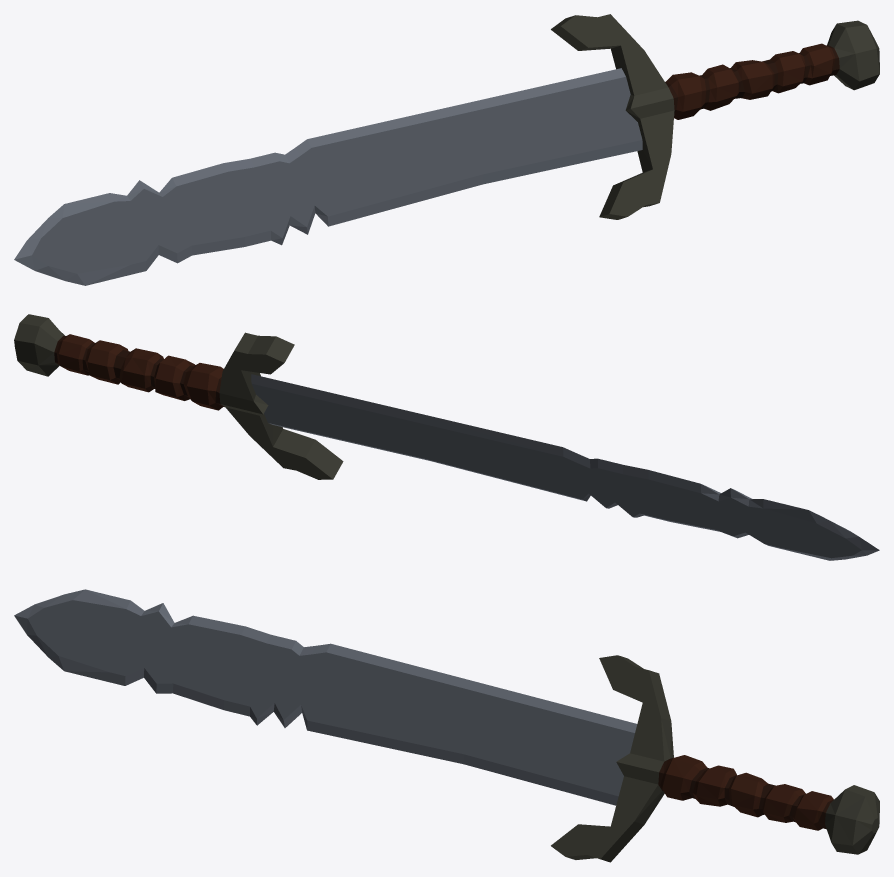
The model's file is Sword_Cylinder.obj.
The picture shows the model from 3 angles, top to bottom: view 1: azimuth 30°, elevation 25°; view 2: azimuth 150°, elevation 25°; view 3: azimuth 330°, elevation 25°; orthographic projection.
Visible parts, largest first — view 1: Sword_Cylinder.005; view 2: Sword_Cylinder.005; view 3: Sword_Cylinder.005.
Part boxes in pixels (bbox=[...]): Sword_Cylinder.005: bbox=[14, 14, 879, 285]; Sword_Cylinder.005: bbox=[14, 314, 879, 560]; Sword_Cylinder.005: bbox=[14, 589, 879, 862].
Bounding box in the file's own units: 0.8576 × 0.1657 × 0.1077.
